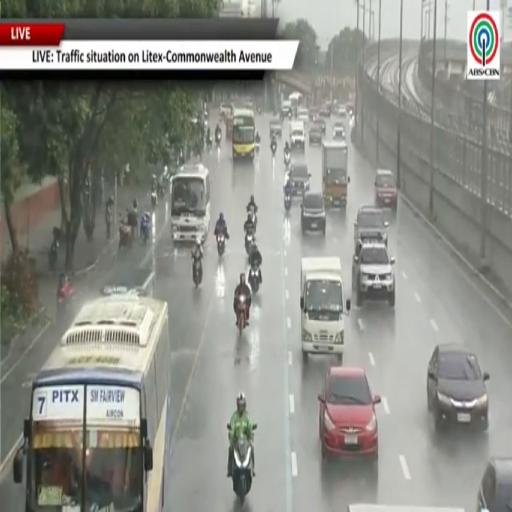bus: (14, 296, 170, 511), (171, 164, 211, 243), (232, 109, 255, 159)
car: (318, 366, 380, 460), (427, 344, 489, 429), (352, 240, 395, 307), (477, 457, 511, 511), (354, 206, 389, 246), (301, 191, 326, 236), (375, 169, 397, 211), (288, 163, 311, 196), (290, 120, 306, 152), (309, 123, 322, 145), (333, 121, 345, 140), (270, 119, 282, 138), (297, 107, 309, 126), (313, 117, 326, 134), (220, 103, 232, 119), (319, 104, 330, 118), (336, 105, 347, 118)
motorcycle: (232, 436, 252, 502), (57, 282, 73, 317), (119, 218, 133, 250), (237, 296, 247, 334), (48, 238, 59, 270), (192, 255, 202, 287), (248, 265, 259, 293), (216, 233, 225, 257), (141, 217, 149, 244), (249, 206, 257, 232), (245, 233, 254, 255), (151, 189, 157, 209), (285, 194, 291, 212), (284, 152, 290, 168), (216, 132, 221, 147), (207, 137, 212, 150), (271, 144, 276, 156), (255, 142, 260, 153), (288, 110, 292, 120)
truck: (300, 258, 350, 363), (322, 141, 350, 209), (101, 268, 154, 296), (348, 504, 464, 511)
